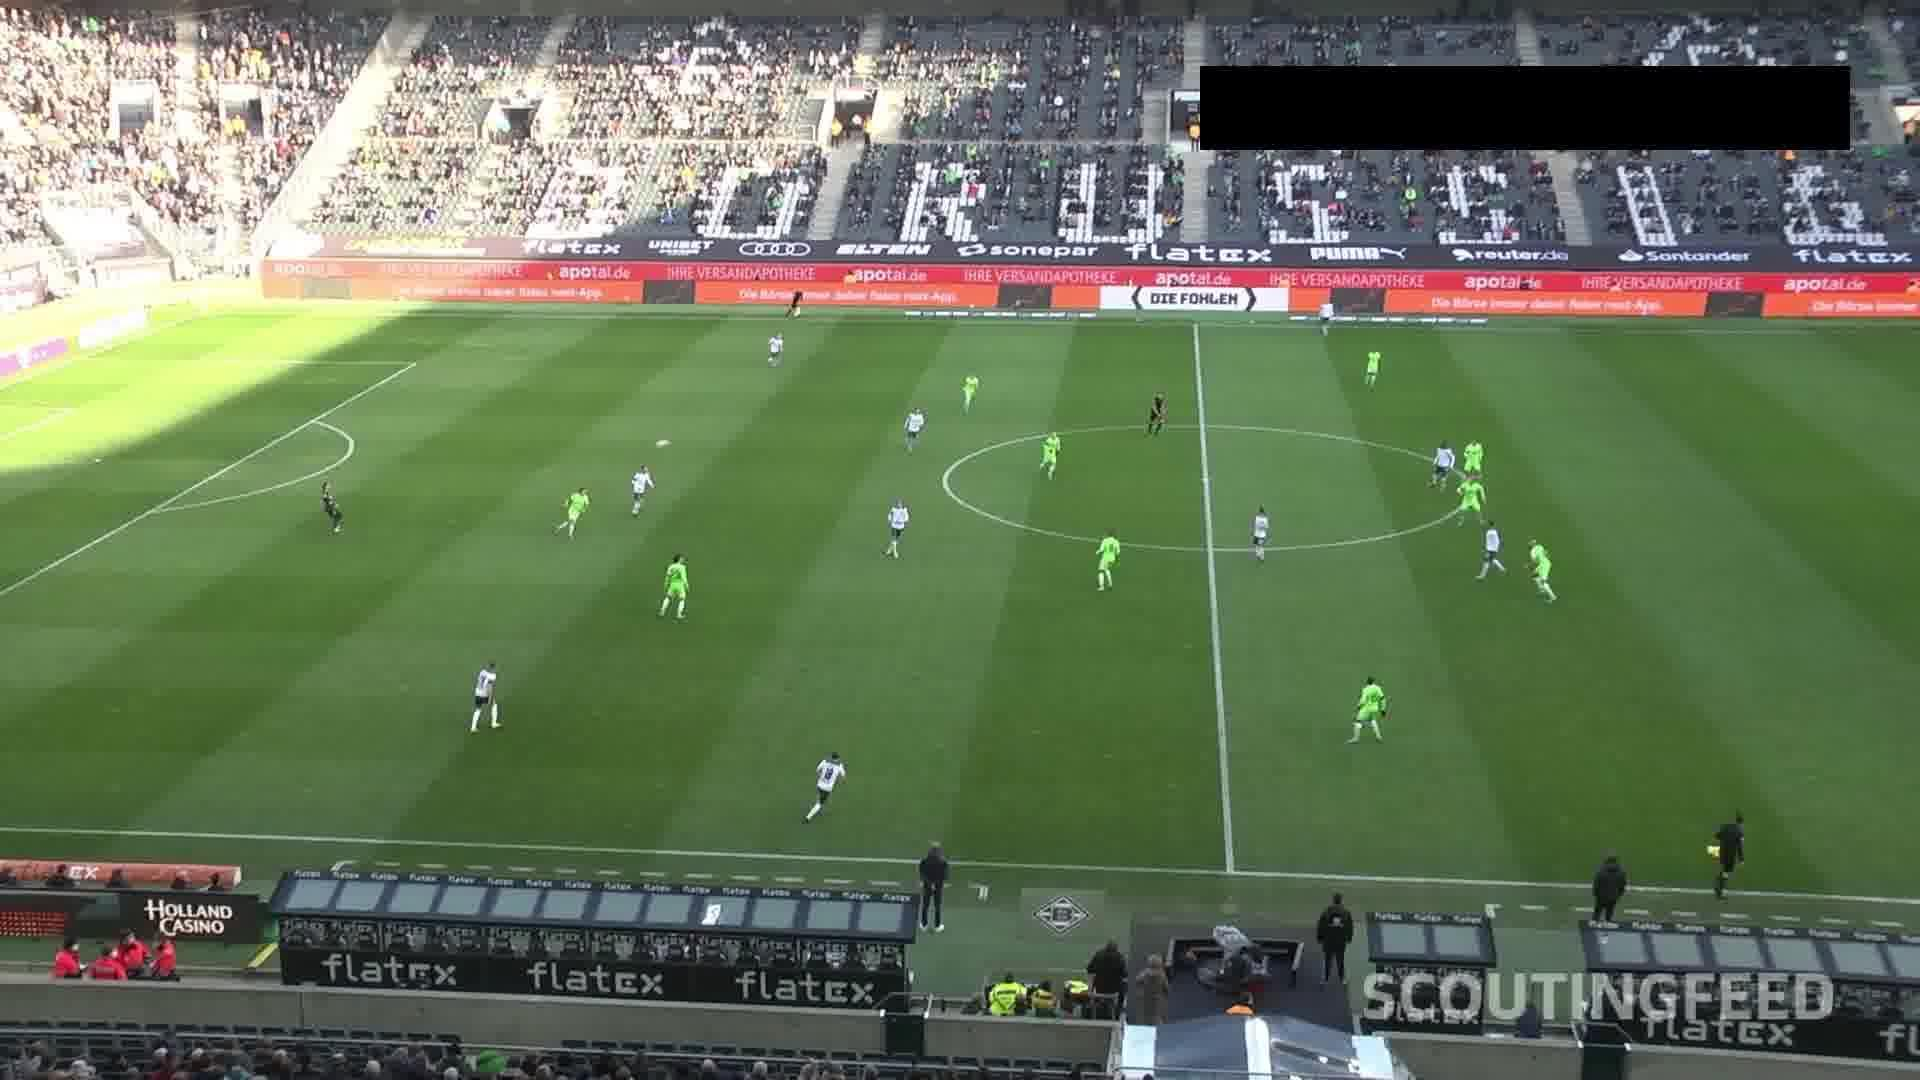football: (657, 439, 671, 448)
